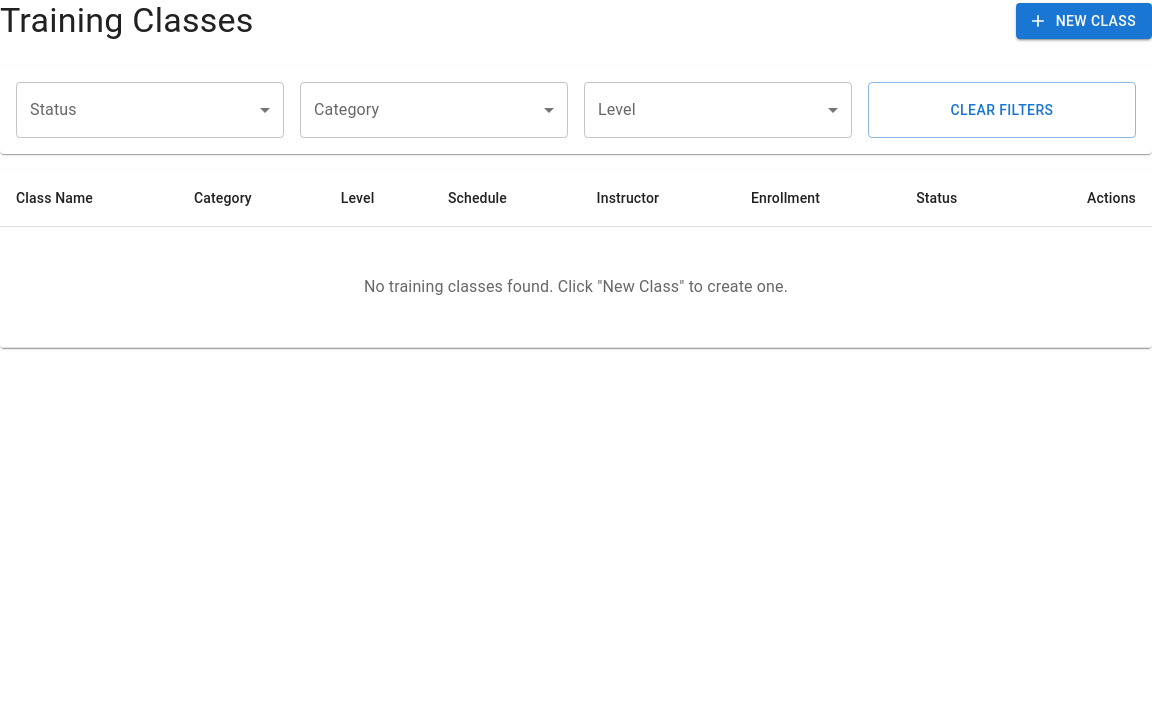
it: TrainingClasses - Validation › Required Field Validation › should show error when name is missing
This screenshot has width=1152, height=720.
Click the button "New Class" at (1084, 21), box [1016,3,1151,39]
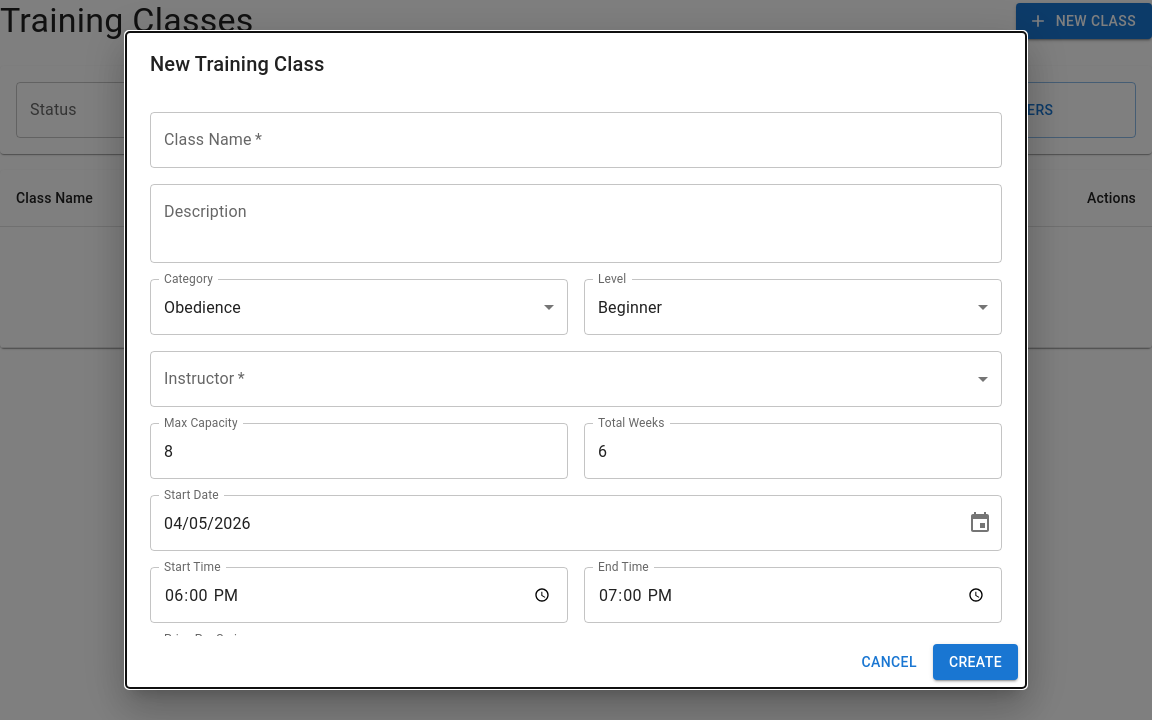
Try to save without filling name
Click the button "Create" at (975, 662), box [933,644,1018,680]
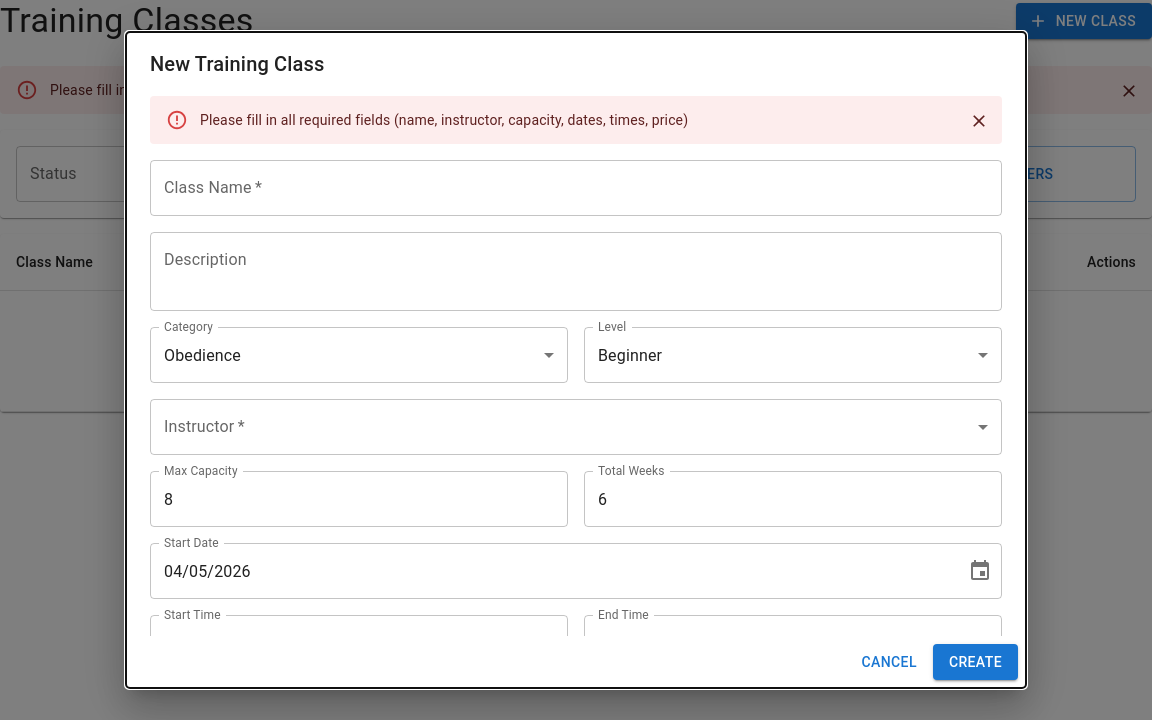
Result: the 1st text "Please fill in all required fields" is shown at [50,82,538,98]
